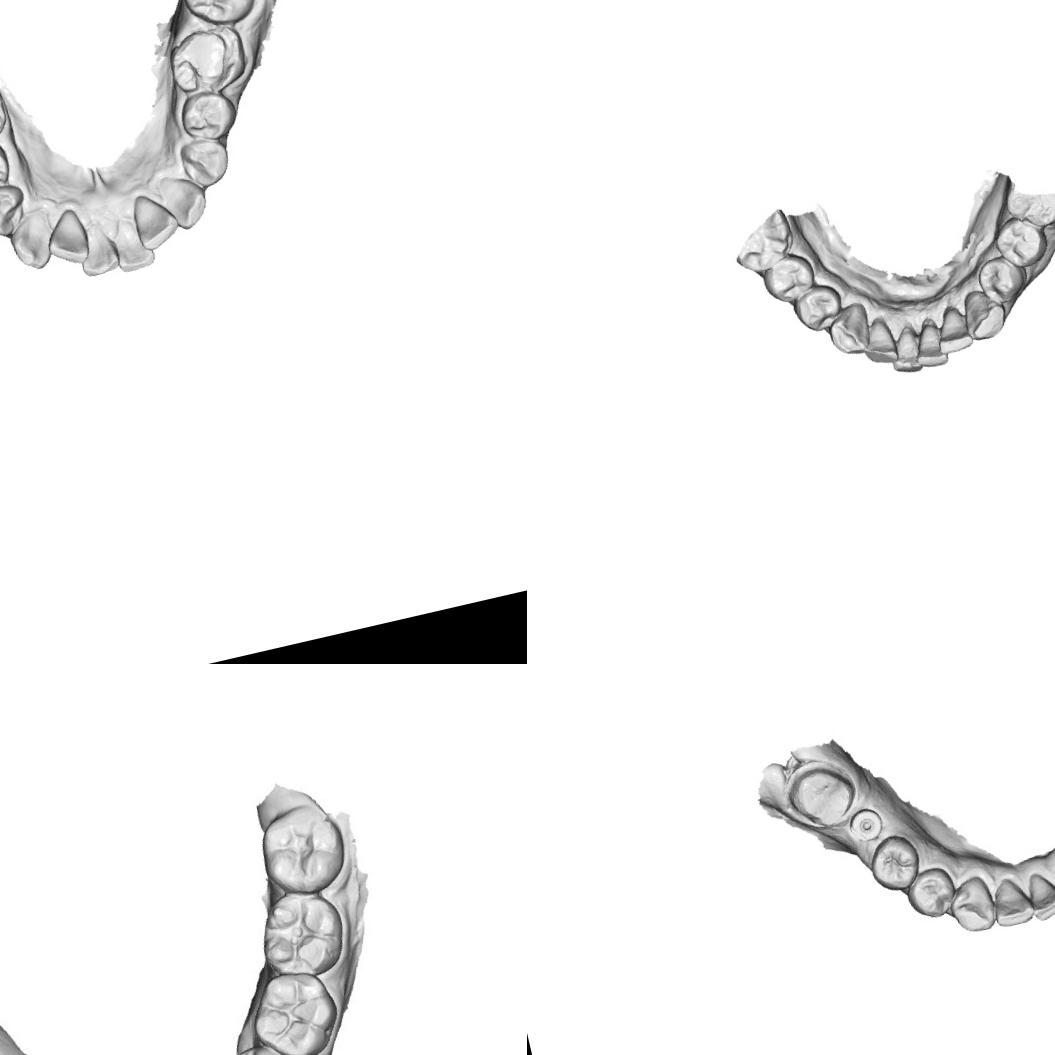canine: (944, 872, 999, 937), (157, 169, 212, 233), (823, 299, 876, 360), (5, 212, 57, 274), (958, 284, 1012, 343)
crown: (778, 752, 864, 838)
implant: (844, 804, 886, 846)
incisor: (129, 188, 183, 252), (40, 206, 92, 270), (108, 214, 158, 274), (72, 219, 122, 279), (986, 873, 1037, 930), (856, 314, 900, 369), (908, 316, 950, 372), (930, 304, 975, 356), (884, 322, 925, 377), (1023, 866, 1055, 923)
molar: (250, 799, 352, 902), (253, 882, 354, 985), (242, 963, 347, 1055), (162, 18, 252, 100), (726, 206, 799, 278), (174, 0, 266, 32), (1003, 181, 1055, 236)
premolar: (864, 830, 926, 897), (175, 85, 241, 146), (990, 210, 1052, 272), (902, 863, 961, 924), (758, 249, 820, 307), (972, 250, 1032, 308), (788, 280, 848, 336), (177, 134, 234, 192), (0, 179, 32, 241), (220, 1034, 312, 1055), (0, 138, 14, 201)
